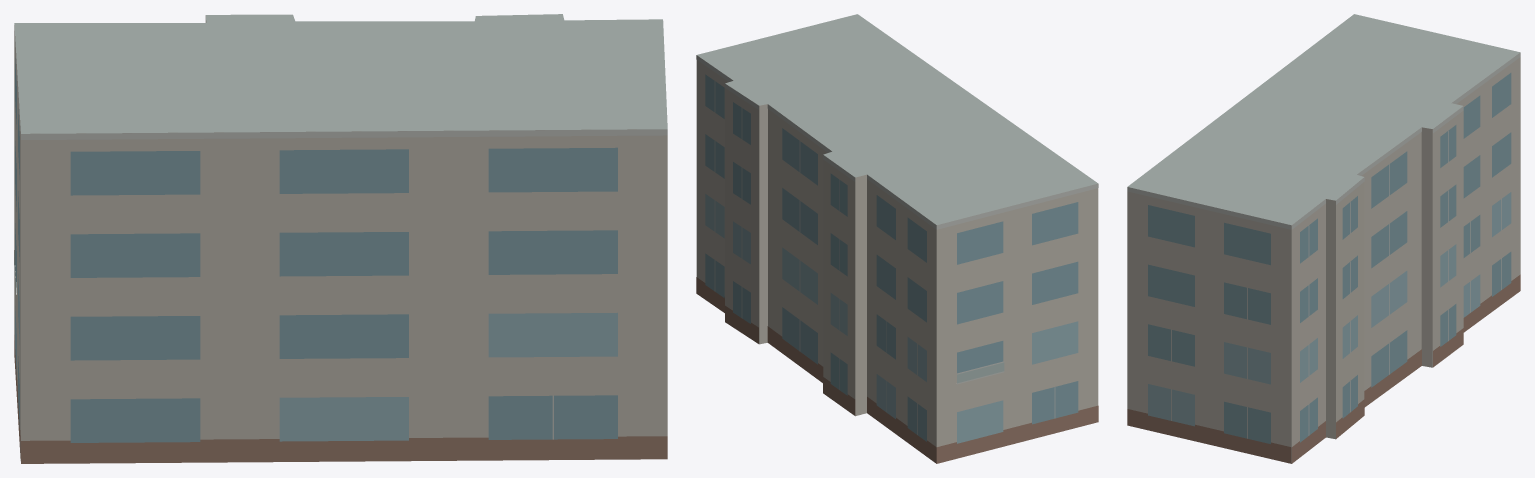
File: survey-upis-32928419.glb
The picture shows the model from 3 angles, left to right: view 1: azimuth 30°, elevation 25°; view 2: azimuth 150°, elevation 25°; view 3: azimuth 270°, elevation 25°; orthographic projection. The views are drawn at different scales.
Visible parts, largest first — view 1: survey-upis-32928419.tmp; view 2: survey-upis-32928419.tmp; view 3: survey-upis-32928419.tmp.
Part boxes in pixels (x1,y1,x2,y2): survey-upis-32928419.tmp: (14, 14, 667, 463); survey-upis-32928419.tmp: (696, 14, 1098, 463); survey-upis-32928419.tmp: (1127, 14, 1520, 463).
Bounding box in the file's own units: 24.32 × 12.8 × 19.13.
